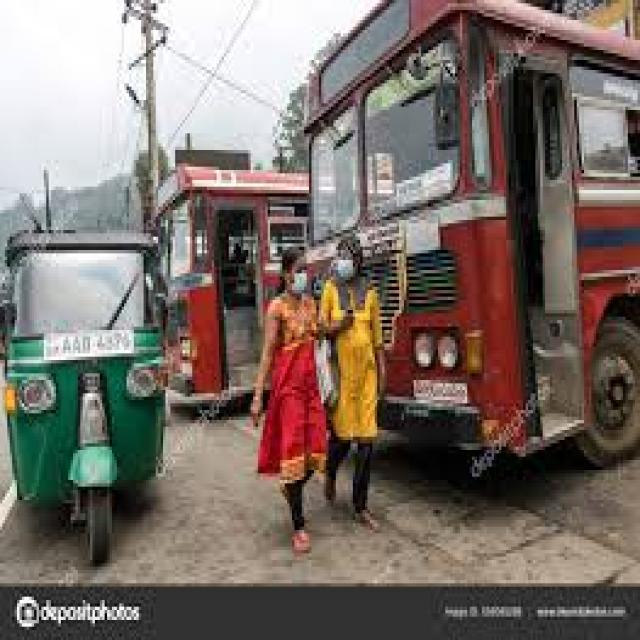bus: (294, 3, 640, 510), (184, 112, 286, 445)
tuktuk: (0, 208, 178, 598)
